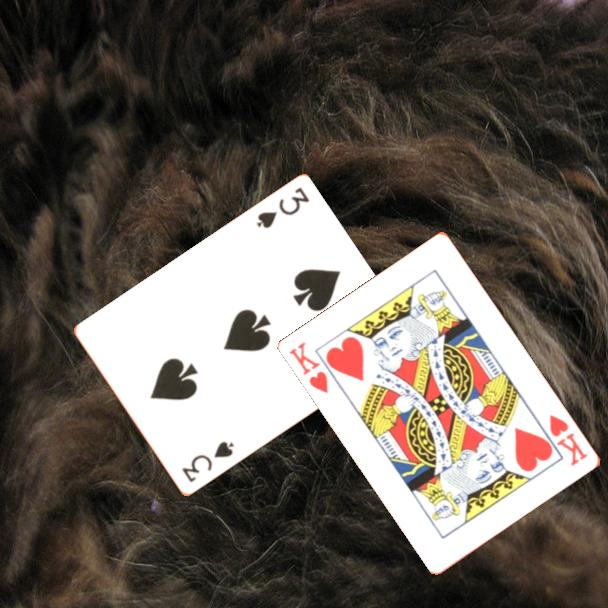h13: (286, 338, 332, 397), (546, 411, 591, 469)
s03: (253, 184, 313, 232), (178, 438, 237, 486)
